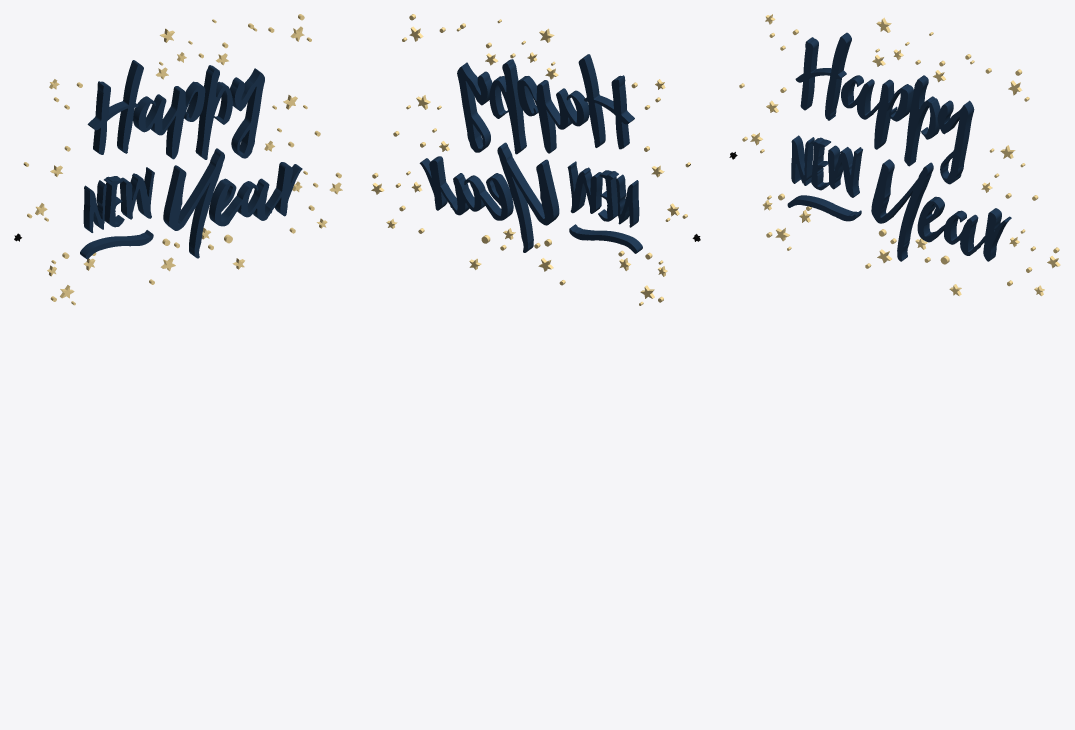
Rendered from StarText_HappyNewYear.gltf.
The picture shows the model from 3 angles, left to right: view 1: azimuth 30°, elevation 25°; view 2: azimuth 150°, elevation 25°; view 3: azimuth 330°, elevation 25°; orthographic projection.
Visible parts, largest first — view 1: happynewyear_stars2; view 2: happynewyear_stars2; view 3: happynewyear_stars2.
Part boxes in pixels (box(x1,y1,x2,y2)): happynewyear_stars2: box(14, 14, 342, 305); happynewyear_stars2: box(371, 14, 700, 305); happynewyear_stars2: box(729, 14, 1060, 295).
Size of the model in its own units: 1.61 by 3.22 by 0.11.
1 material, 1 textured.
